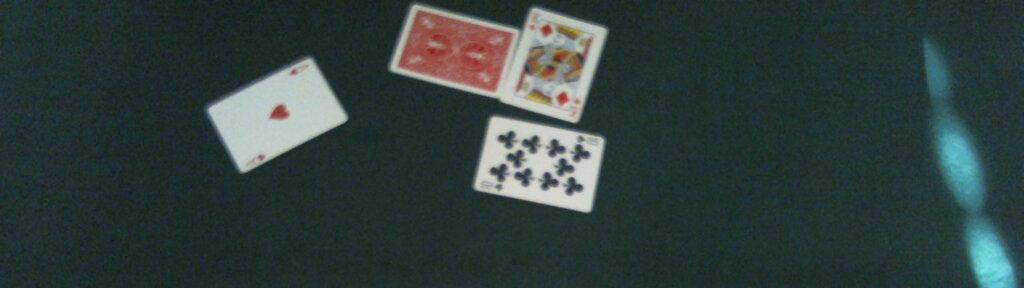ace: (204, 57, 349, 173)
back: (386, 4, 521, 99)
king: (501, 7, 608, 125)
ten: (470, 113, 605, 213)
